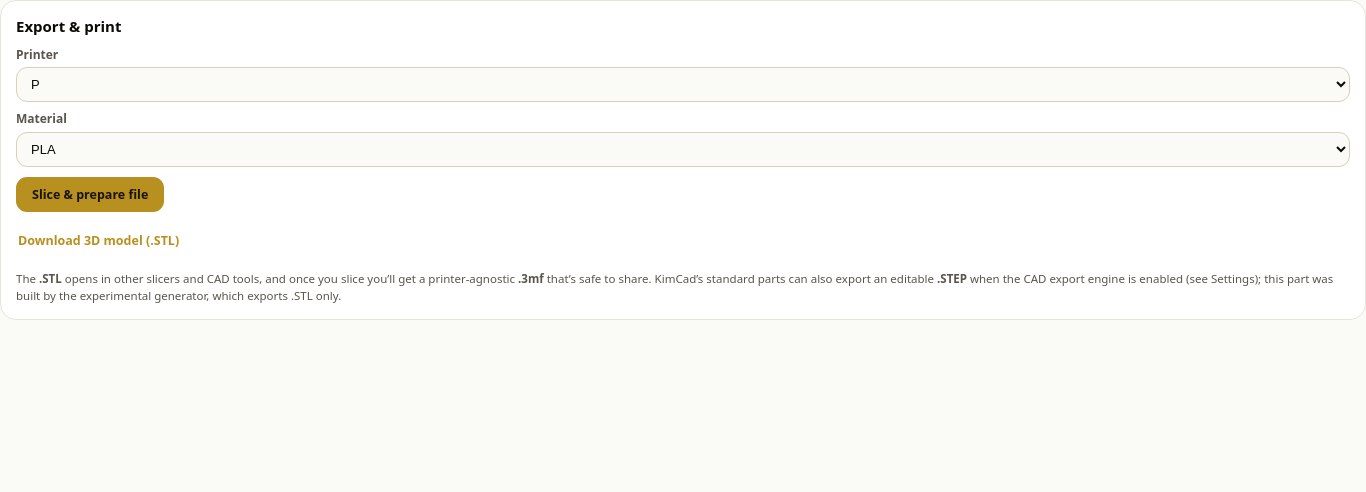
Test: ExportPanel print summary (Slice 10) › falls back to the plain summary when no structured detail is present
Click the button "Slice & prepare file": (90, 194) [16,176,164,212]
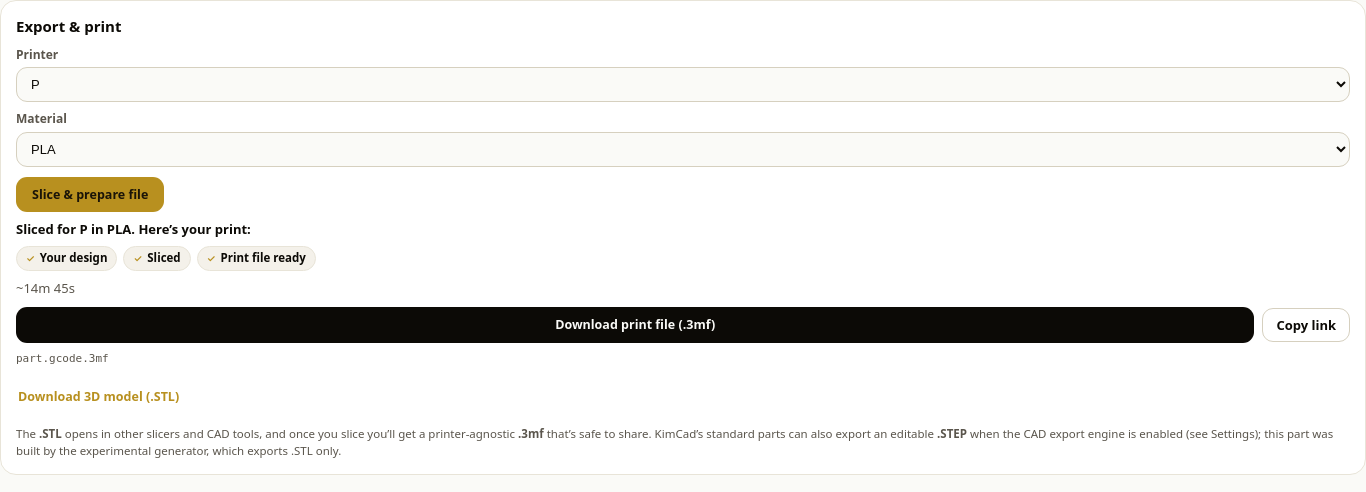
Result: the text "~14m 45s" is shown at [16,279,75,297]
